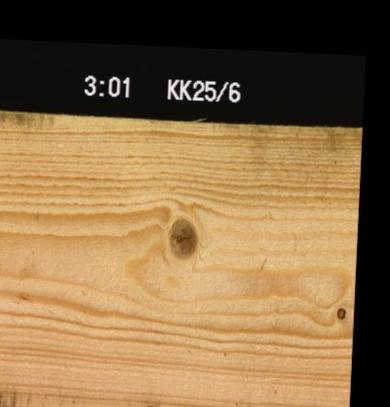dry_knot: (332, 302, 345, 320)
sound_knot: (164, 216, 198, 258)
